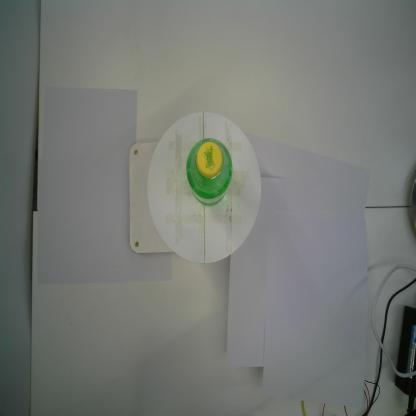Drink: (186, 138, 233, 208)
